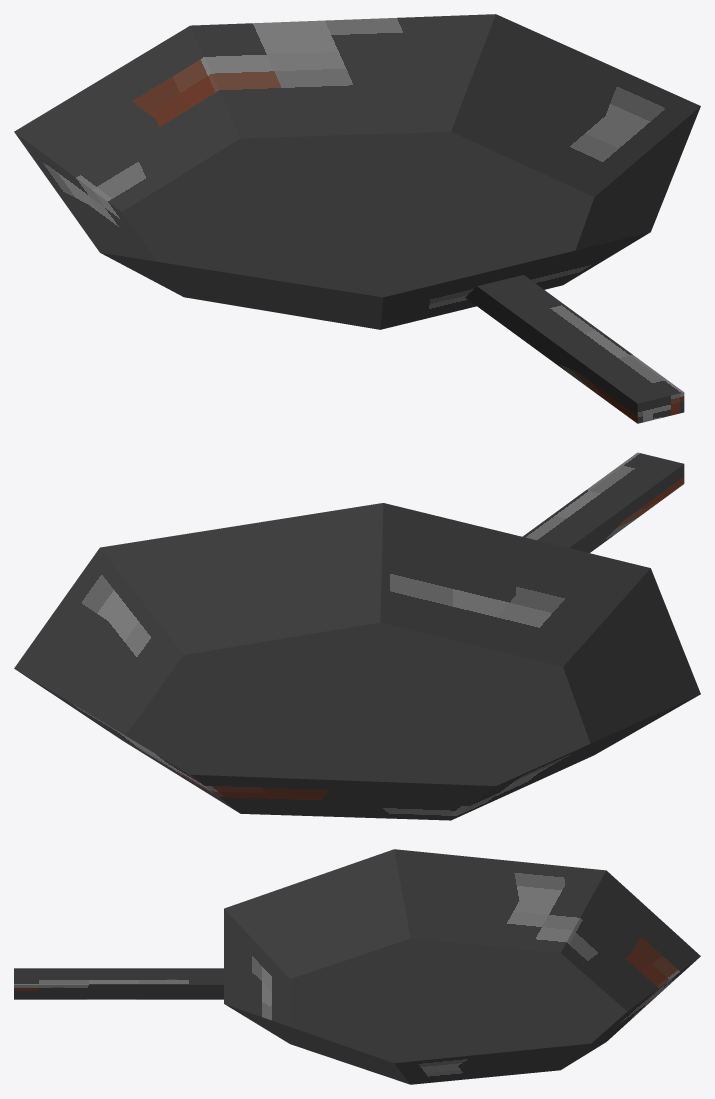
File: flyingpan.fbx
3 views of the same model, one above another, from view 1: azimuth 30°, elevation 25°; view 2: azimuth 150°, elevation 25°; view 3: azimuth 270°, elevation 25° (orthographic). The views are drawn at different scales.
Visible parts, largest first — view 1: Flyngpan; view 2: Flyngpan; view 3: Flyngpan.
Part boxes in pixels (x1,y1,x2,y2): Flyngpan: (14,14,700,423); Flyngpan: (14,452,700,820); Flyngpan: (14,849,700,1084).
Size of the model in its own units: 202 by 24.38 by 274.
